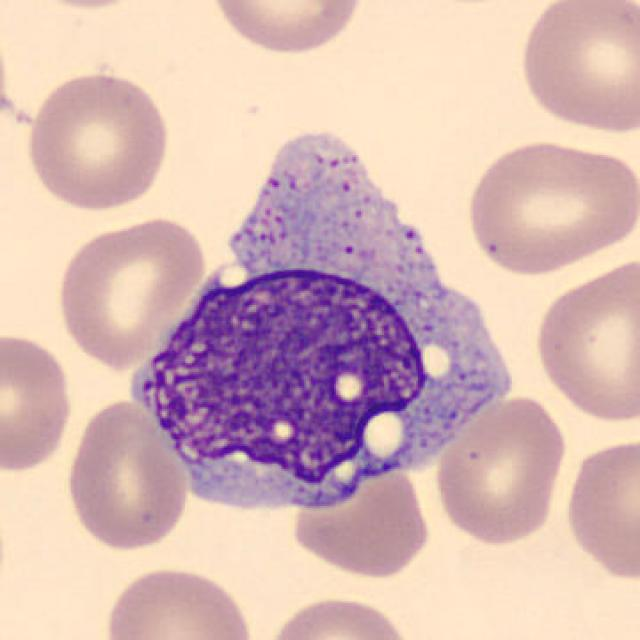Monocyte: (124, 118, 526, 527)
RBC: (461, 134, 638, 277), (53, 212, 208, 370), (22, 67, 175, 213), (432, 393, 569, 547), (62, 395, 192, 555), (530, 252, 638, 427), (286, 458, 436, 580), (514, 0, 640, 136), (98, 562, 258, 640), (560, 432, 640, 584), (0, 328, 76, 476), (204, 0, 367, 56), (261, 590, 415, 640)
